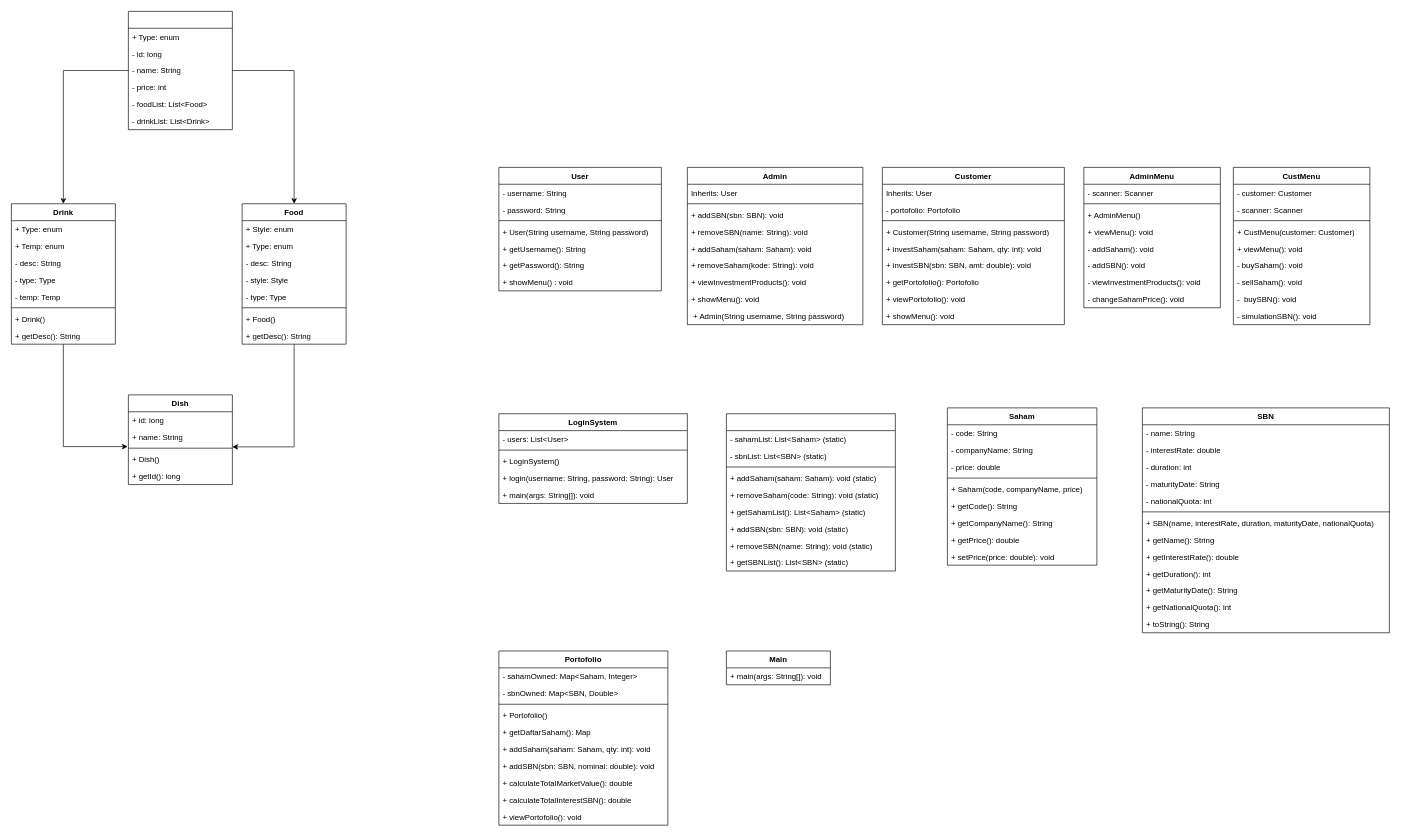
The diagram is 1401 pixels wide and 838 high, and some of its shapes have lost their labels. The box of each missing label's shape, as (x1, y1, x2, y2) in pixels:
InvestmentData: (726, 413, 895, 571)
MenuPackage: (128, 11, 232, 130)
